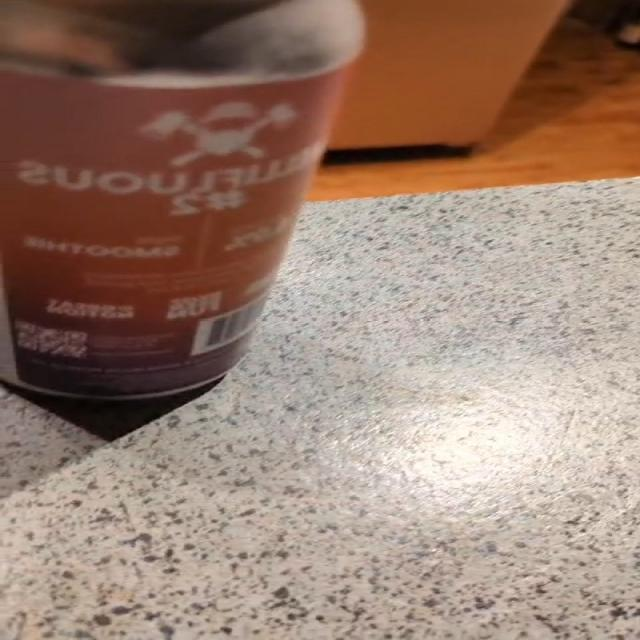metal: (2, 0, 362, 399)
